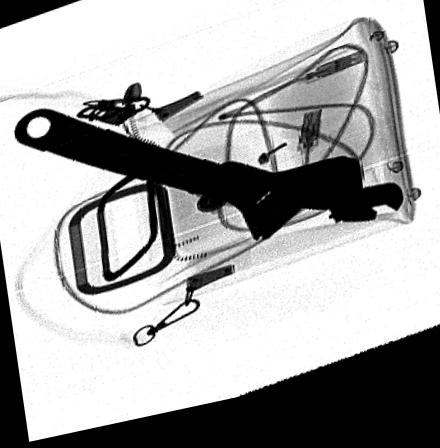Wrench: (15, 109, 370, 250), (203, 170, 407, 238)
